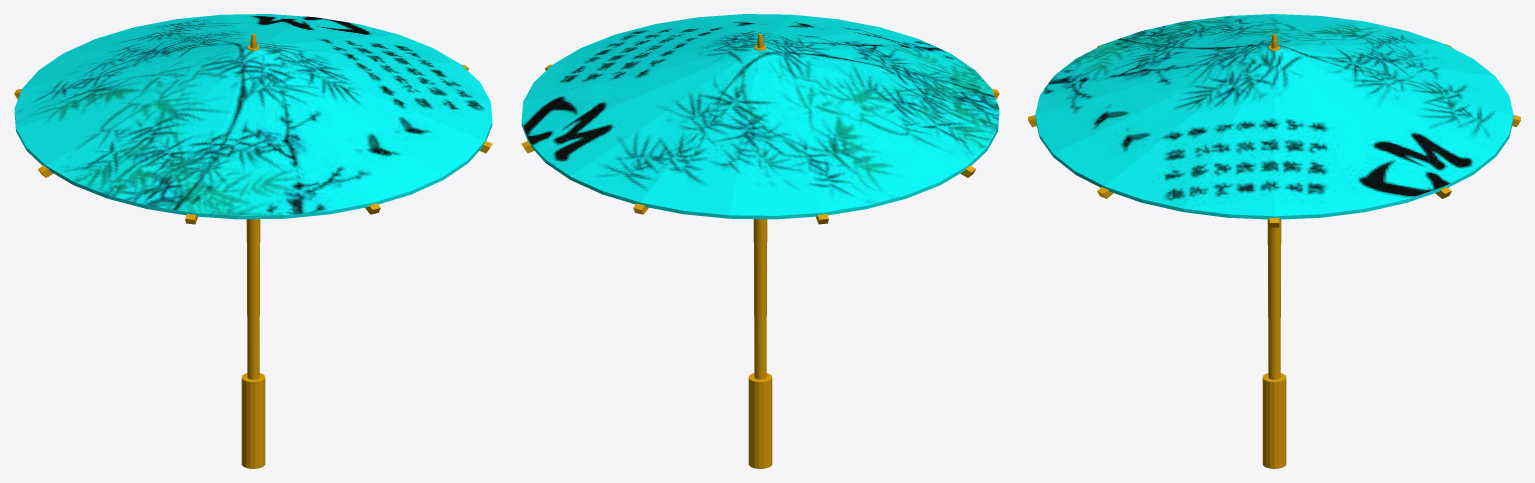
3 renders of one model, left to right at view 1: azimuth 30°, elevation 25°; view 2: azimuth 150°, elevation 25°; view 3: azimuth 270°, elevation 25°, orthographic.
Visible parts, largest first — view 1: 柱体, 柱体.001; view 2: 柱体, 柱体.001; view 3: 柱体, 柱体.001.
Boxes of the visible parts, <box> form: 柱体: <box>14,14,492,219</box>; 柱体.001: <box>14,34,492,468</box>; 柱体: <box>521,14,999,219</box>; 柱体.001: <box>521,34,999,468</box>; 柱体: <box>1035,14,1513,219</box>; 柱体.001: <box>1028,34,1520,468</box>.
Bounding box in the file's own units: 2.06 × 1.98 × 2.06.
2 materials, 1 textured.
